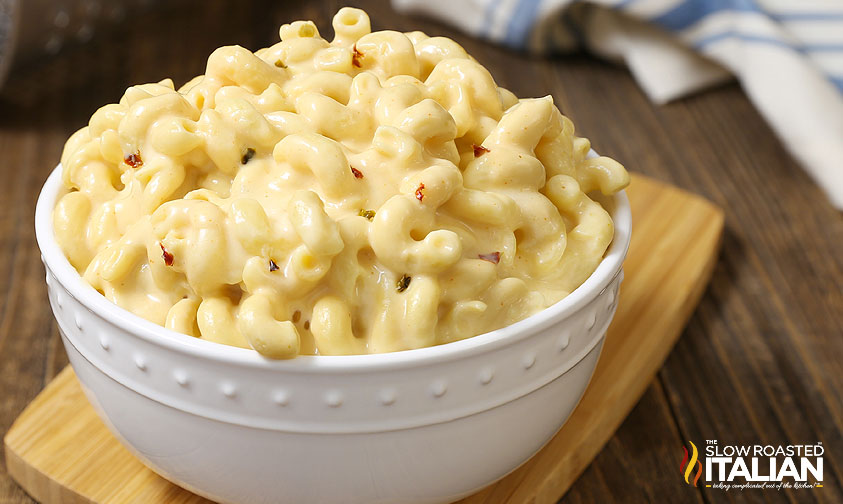cheese: (247, 134, 385, 264), (317, 67, 439, 151), (162, 128, 272, 212)
